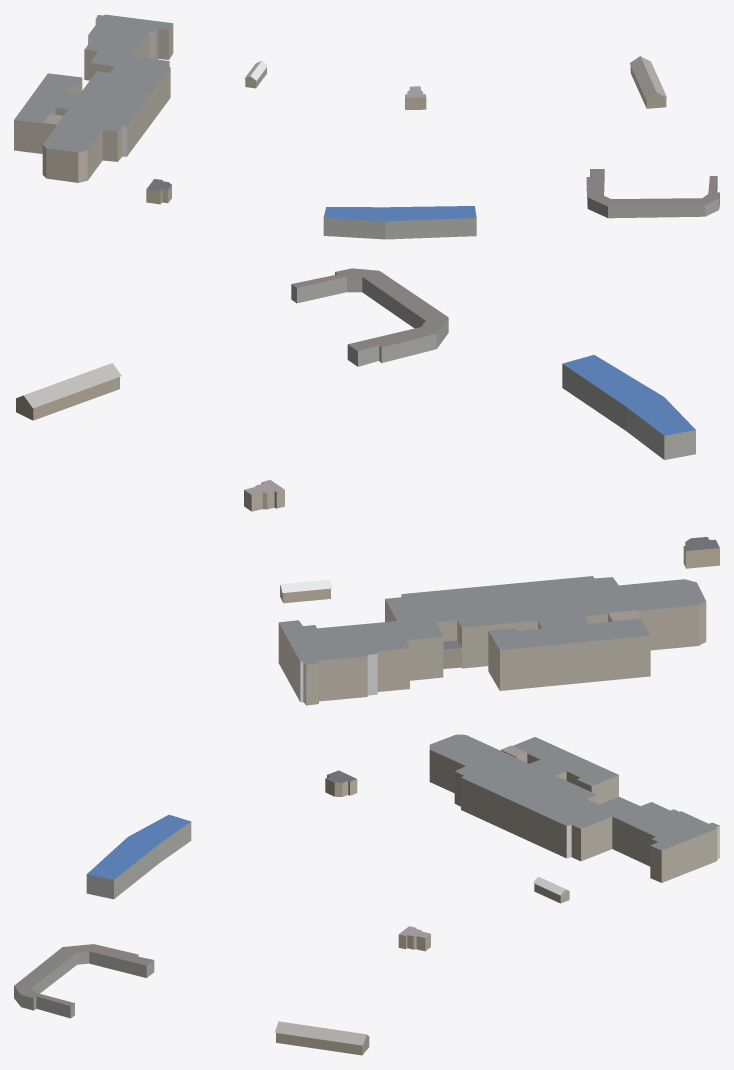
3 views of the same model, one above another, from view 1: azimuth 30°, elevation 25°; view 2: azimuth 150°, elevation 25°; view 3: azimuth 270°, elevation 25° (orthographic). The views are drawn at different scales.
Visible parts, largest first — view 1: tuile; view 2: tuile; view 3: tuile.
Boxes of the visible parts, bbox=[...] form: tuile: bbox=[14, 14, 719, 239]; tuile: bbox=[16, 268, 719, 705]; tuile: bbox=[14, 734, 719, 1055].
Size of the model in its own units: 234 by 12.44 by 239.
